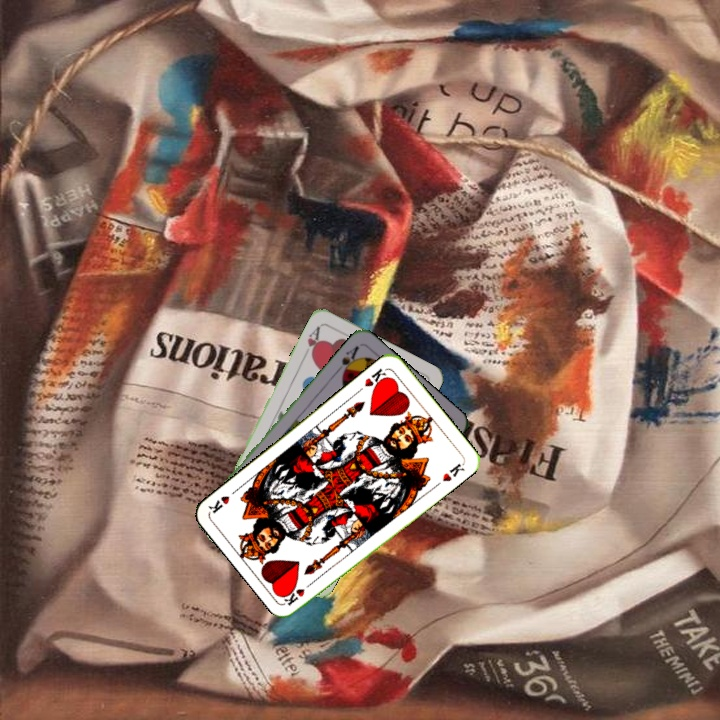HA: (300, 322, 323, 361)
HK: (281, 576, 317, 608), (361, 364, 391, 392)
SA: (332, 342, 362, 379)
